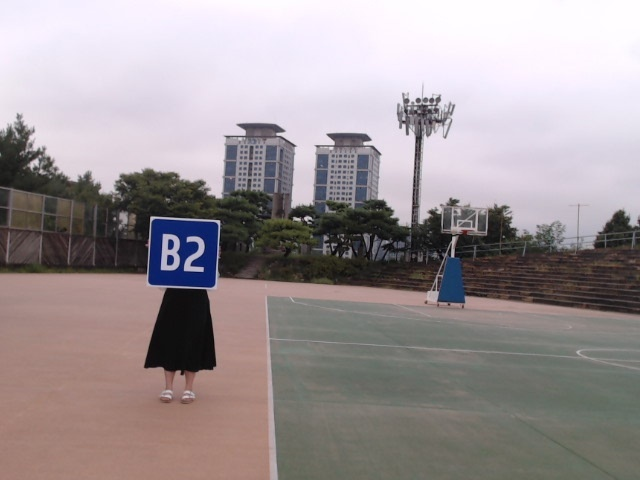delivery_b2: (148, 218, 219, 289)
